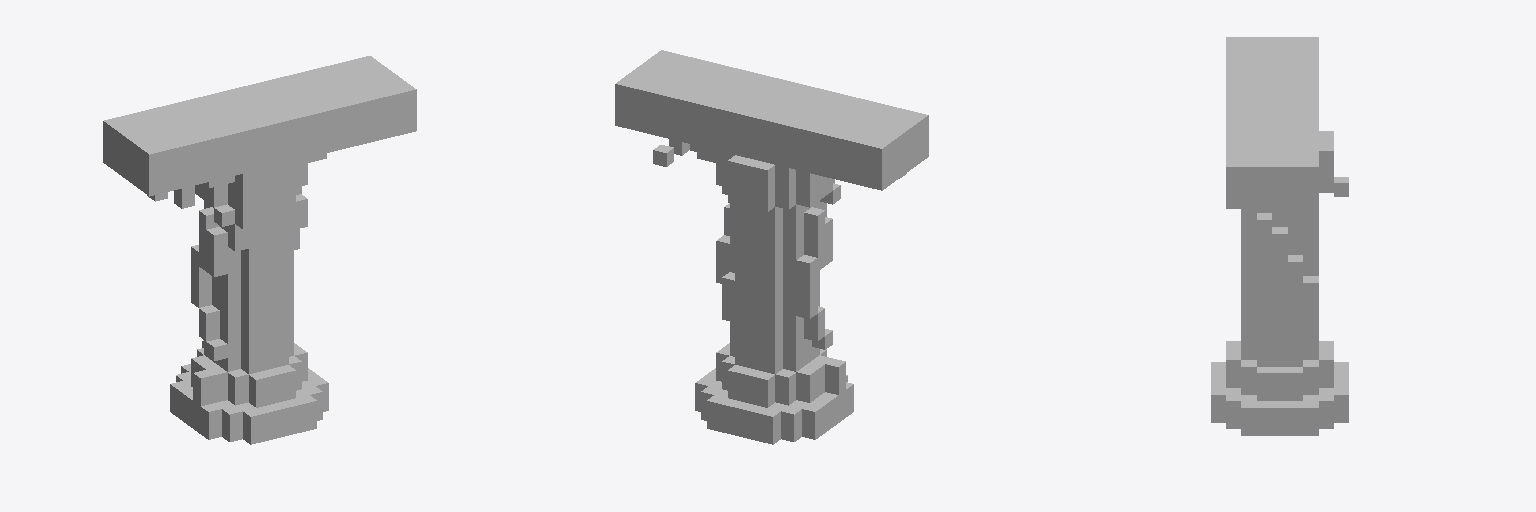
The model's file is column2.obj.
The picture shows the model from 3 angles: view 1: azimuth 30°, elevation 25°; view 2: azimuth 150°, elevation 25°; view 3: azimuth 270°, elevation 25°; orthographic projection.
Parts seen in each view (by area): view 1: object 1; view 2: object 1; view 3: object 1.
Part boxes in pixels (bbox=[...]): object 1: bbox=[103, 56, 416, 444]; object 1: bbox=[615, 50, 928, 444]; object 1: bbox=[1211, 37, 1348, 435].
Size of the model in its own units: 2 by 2.2 by 0.9.